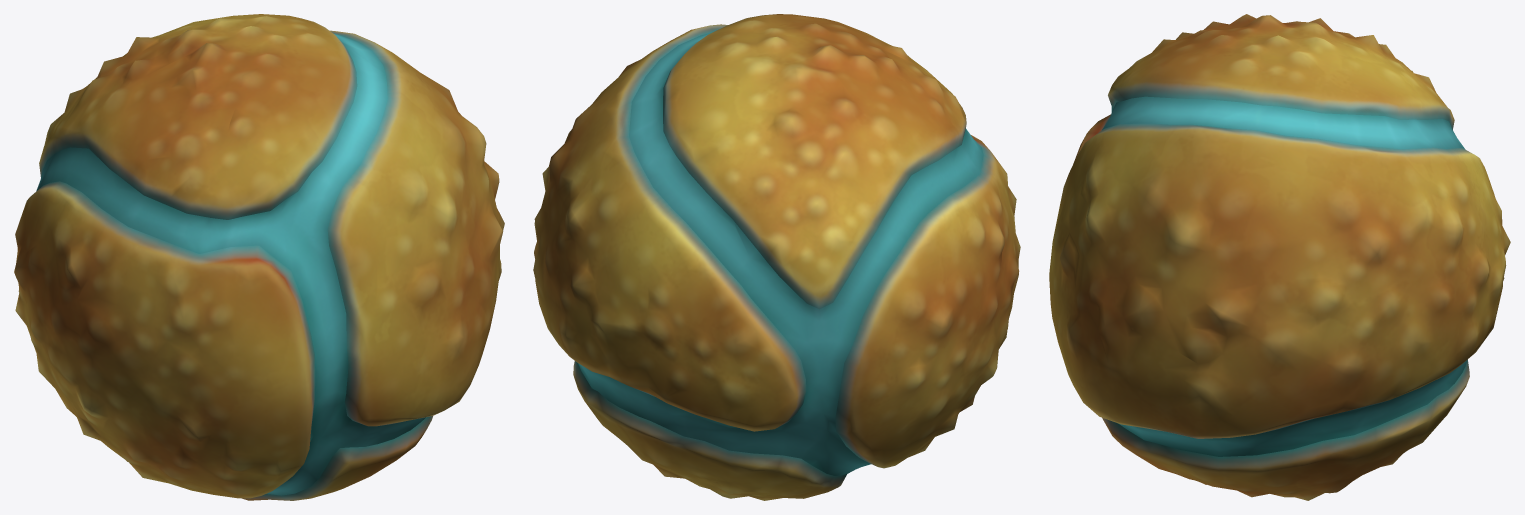
Rendered from Planet_ShellIslands_Yellow.fbx.
The picture shows the model from 3 angles, left to right: view 1: azimuth 30°, elevation 25°; view 2: azimuth 150°, elevation 25°; view 3: azimuth 270°, elevation 25°; orthographic projection. The views are drawn at different scales.
Parts seen in each view (by area): view 1: Planet_ShellIslands_Yellow; view 2: Planet_ShellIslands_Yellow; view 3: Planet_ShellIslands_Yellow.
Boxes of the visible parts, x1=… form: Planet_ShellIslands_Yellow: x1=14, y1=14, x2=504, y2=500; Planet_ShellIslands_Yellow: x1=533, y1=14, x2=1020, y2=500; Planet_ShellIslands_Yellow: x1=1049, y1=14, x2=1510, y2=500.
Bounding box in the file's own units: 204 × 204 × 194.
